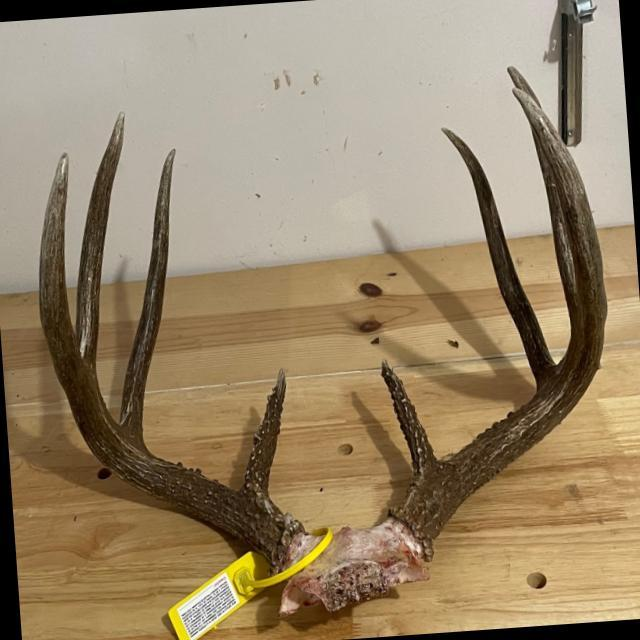L-F: (385, 86, 608, 562)
L-G1: (380, 358, 447, 485)
L-G2: (439, 126, 558, 394)
R-F: (37, 151, 305, 577)
R-G1: (234, 368, 286, 502)
R-G2: (118, 147, 176, 451)
R-G3: (74, 109, 125, 387)
